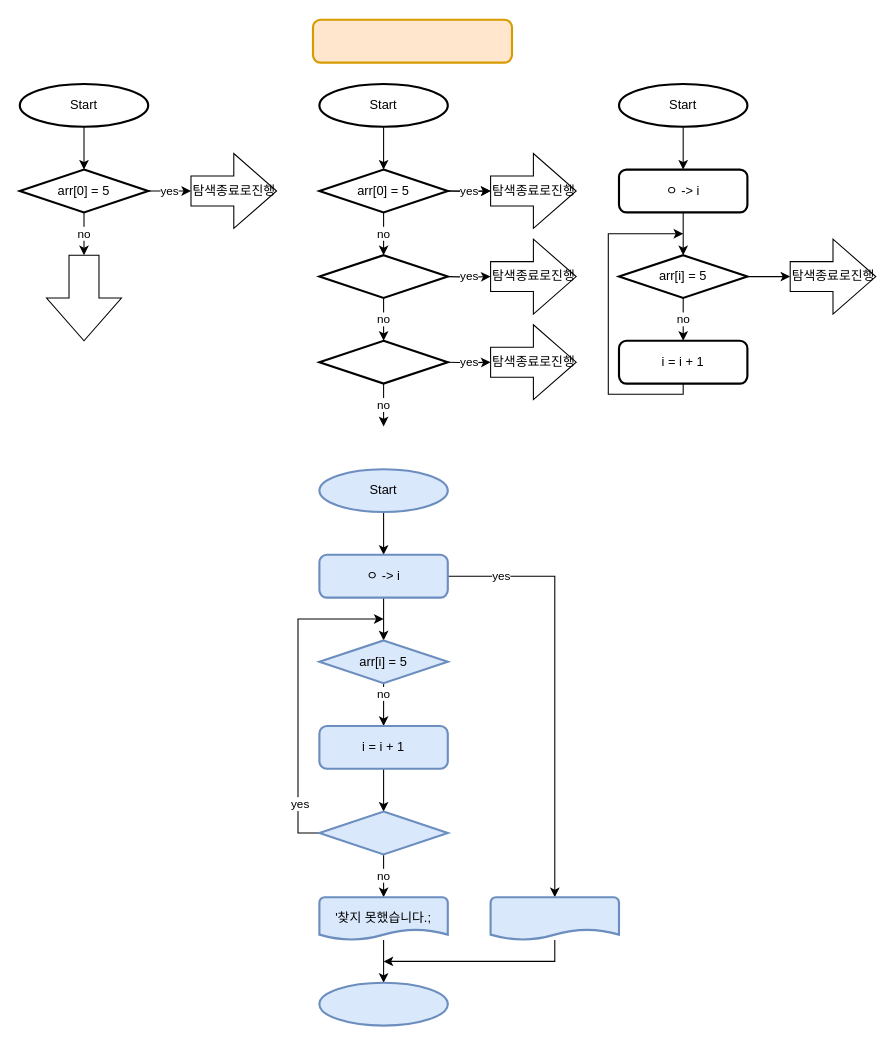
Some shapes in this 895 by 1044 pixel diagram are drawn without their labels. Each missing label, with the centre of its shape:
"'i번째 요소가 일치'" goes at point (554, 918).
"arr[1] = 5" goes at point (383, 276).
"arr[2] = 5" goes at point (383, 361).
"End" goes at point (383, 1003).
"i < len(arr)" goes at point (383, 832).
"다음 요소를 진행한다" goes at point (83, 297).
"선형 탐색법" goes at point (412, 40).
